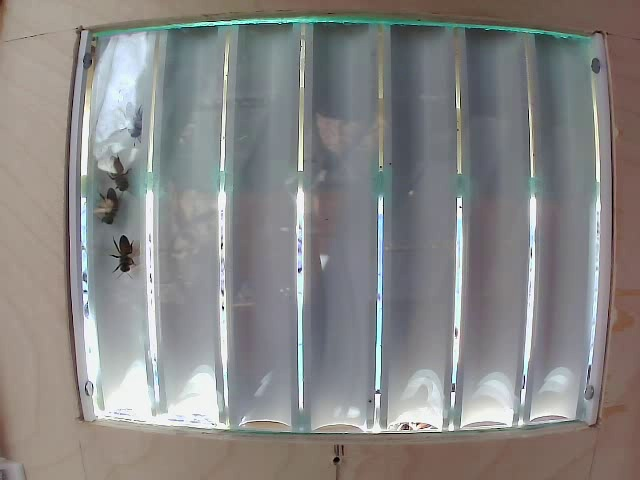bee: (85, 185, 129, 234), (105, 145, 148, 195), (110, 224, 142, 288), (123, 103, 156, 146)
